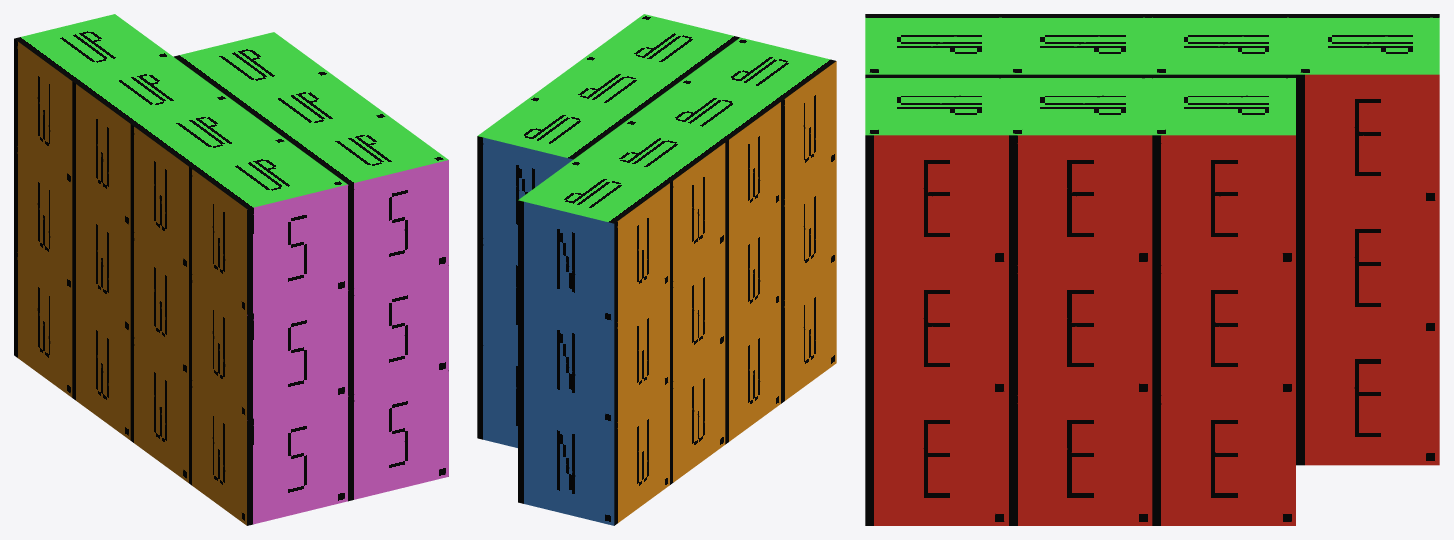
The picture shows the model from 3 angles, left to right: view 1: azimuth 30°, elevation 25°; view 2: azimuth 150°, elevation 25°; view 3: azimuth 270°, elevation 25°; orthographic projection. The views are drawn at different scales.
Parts seen in each view (by area): view 1: block.001; view 2: block.001; view 3: block.001.
Boxes of the visible parts, <box> form: block.001: <box>14,14,448,525</box>; block.001: <box>477,14,836,525</box>; block.001: <box>865,14,1439,525</box>.
Size of the model in its own units: 2 by 3 by 4.
Materials: 6 (6 with a texture image).
